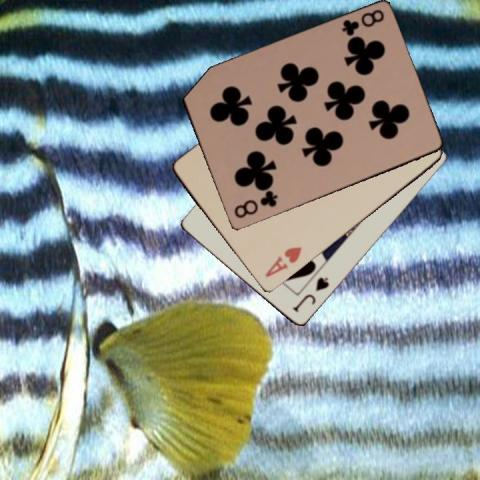8c: (231, 189, 279, 220), (339, 7, 385, 38)
Ah: (262, 244, 303, 279)
Js: (289, 274, 331, 314)
